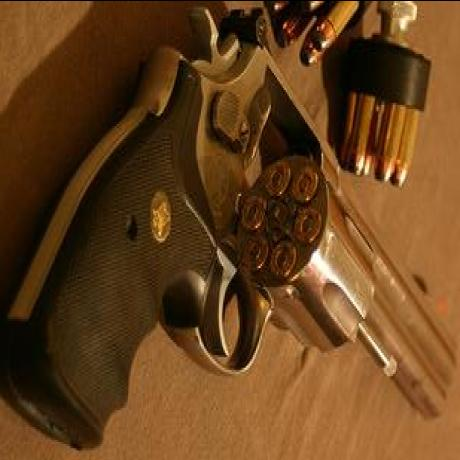weapon: (2, 44, 460, 443)
